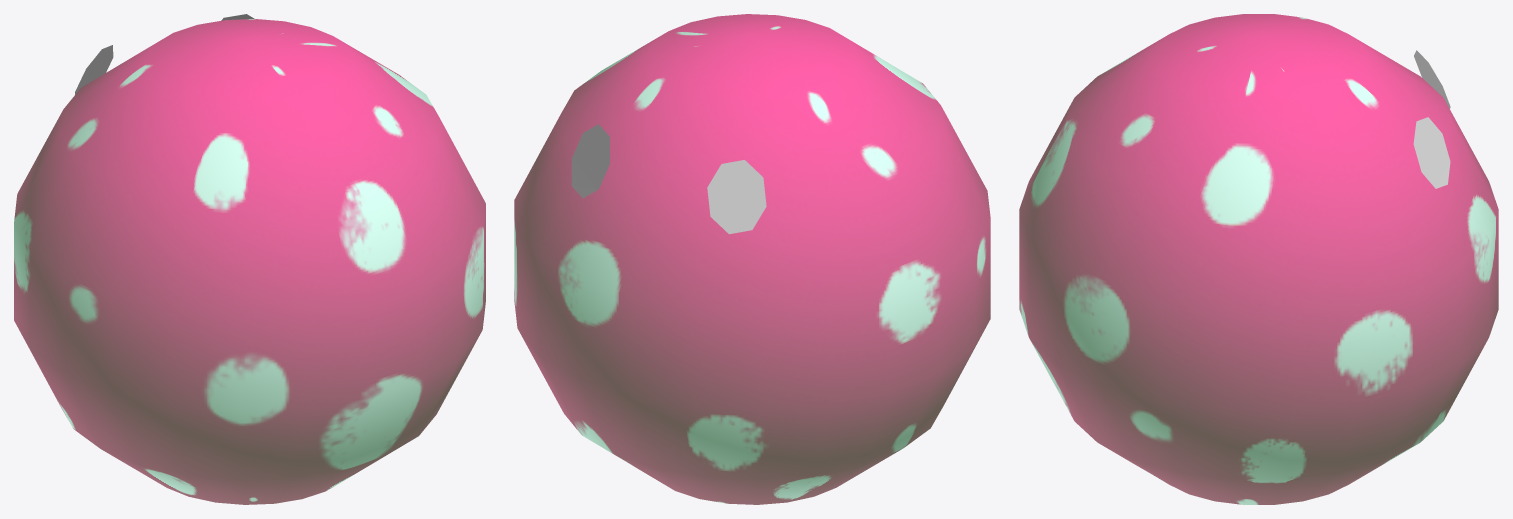
File: player_monster.glb
3 renders of one model, left to right at view 1: azimuth 30°, elevation 25°; view 2: azimuth 150°, elevation 25°; view 3: azimuth 270°, elevation 25°, orthographic.
Visible parts, largest first — view 1: Body, Eyes; view 2: Body, Eyes; view 3: Body, Eyes.
Part boxes in pixels (x1,y1,x2,y2): Body: [14, 19, 485, 504]; Eyes: [75, 14, 254, 94]; Body: [514, 14, 990, 504]; Eyes: [571, 124, 766, 234]; Body: [1019, 14, 1498, 504]; Eyes: [1413, 50, 1450, 188].
Size of the model in its own units: 0.6562 by 0.68 by 0.663.
Materials: 2 (1 with a texture image).
